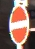No entry: (6, 6, 30, 44)
